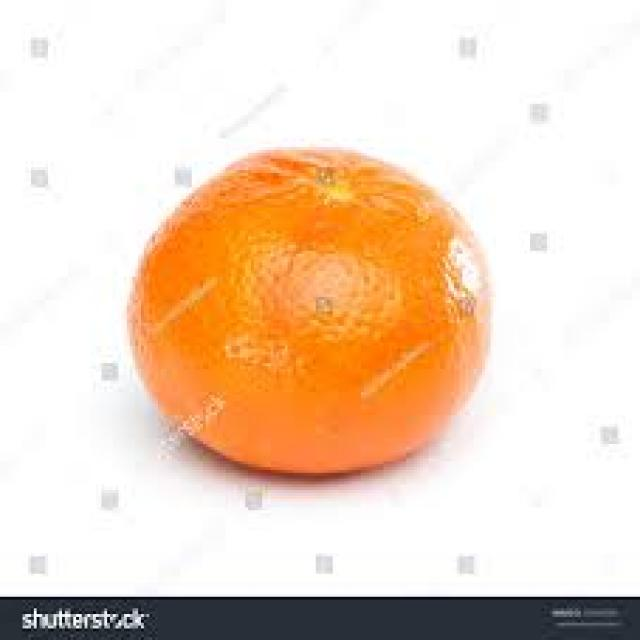organic waste: (124, 141, 488, 479)
